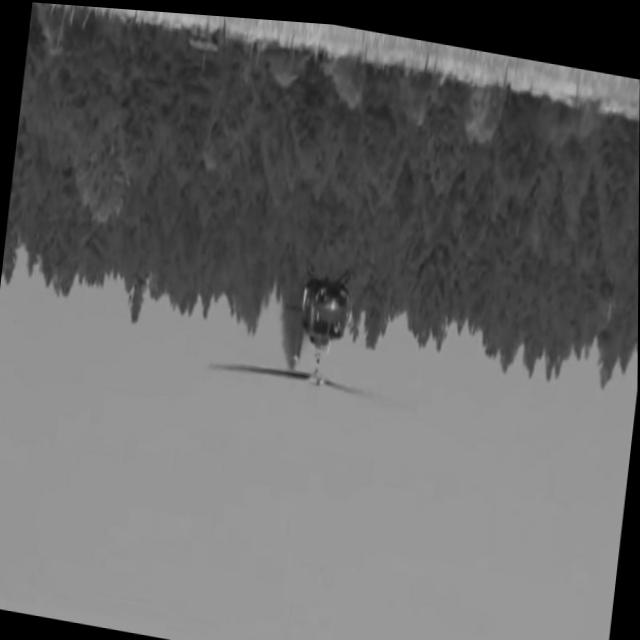helikopter: (233, 234, 398, 420)
